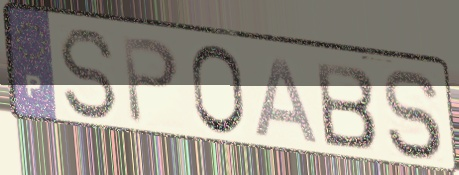A: (251, 54, 323, 147)
B: (312, 58, 380, 152)
O: (188, 42, 249, 140)
P: (119, 33, 182, 128)
S: (55, 26, 120, 124), (381, 67, 446, 163)
